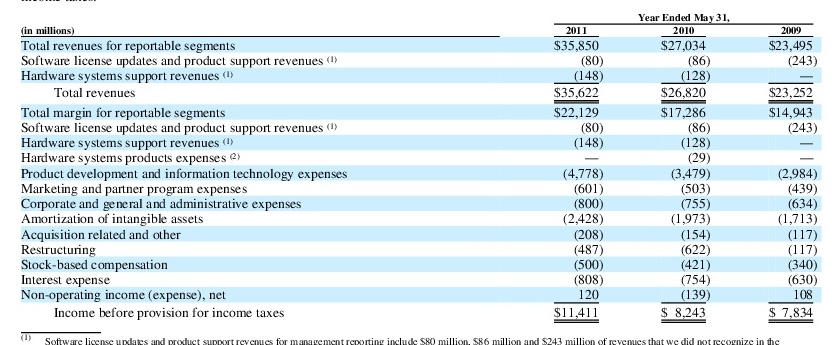table: (0, 0, 832, 345)
